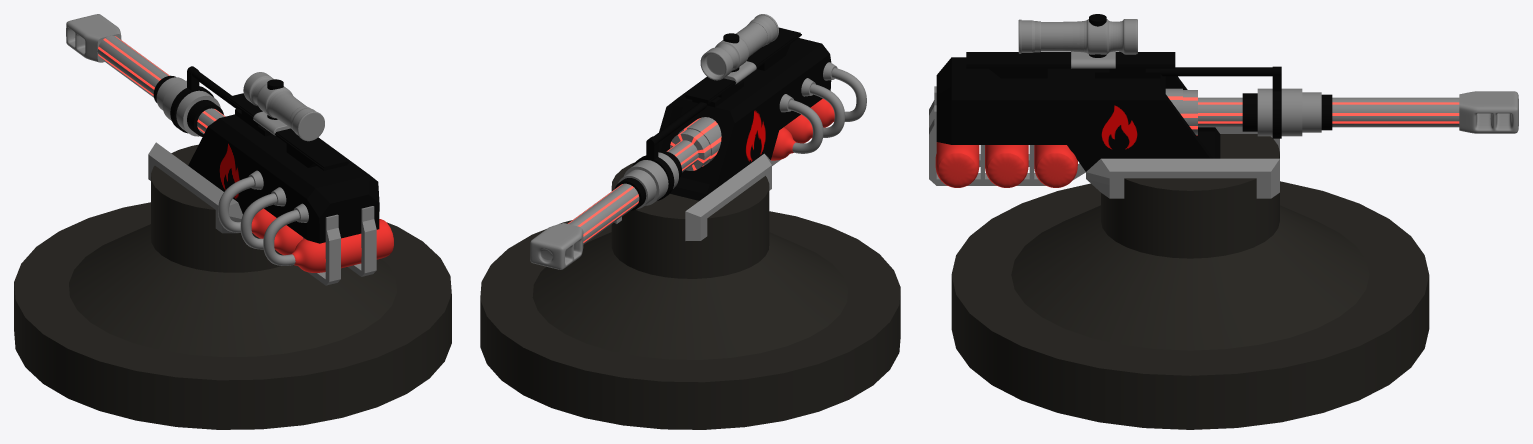
The model's file is sniper_L1.fbx.
3 views of the same model, side by side, from view 1: azimuth 30°, elevation 25°; view 2: azimuth 150°, elevation 25°; view 3: azimuth 270°, elevation 25° (orthographic). The views are drawn at different scales.
Visible parts, largest first — view 1: Circle.001, Cube, Cylinder, Cube.001, Cylinder.003, NurbsPath, Cylinder.002, Cube.003, Circle, Cylinder.001, Cube.002; view 2: Circle.001, Cube, Cylinder, Cube.001, NurbsPath, Cylinder.002, Cube.003, Cylinder.003, Cylinder.001, Circle; view 3: Circle.001, Cube, Cylinder, Cube.001, Cylinder.003, Cylinder.002, Cube.003, Cylinder.001, Cube.002.
Boxes of the visible parts, bbox=[...] form: Circle.001: bbox=[14, 144, 451, 429]; Cube: bbox=[188, 93, 379, 243]; Cylinder: bbox=[97, 35, 225, 136]; Cube.001: bbox=[148, 142, 376, 285]; Cylinder.003: bbox=[251, 208, 393, 272]; NurbsPath: bbox=[218, 176, 299, 265]; Cylinder.002: bbox=[243, 72, 324, 141]; Cube.003: bbox=[66, 14, 121, 62]; Circle: bbox=[248, 170, 308, 222]; Cylinder.001: bbox=[187, 66, 238, 108]; Cube.002: bbox=[253, 111, 290, 135]; Circle.001: bbox=[480, 162, 900, 429]; Cube: bbox=[658, 27, 831, 200]; Cylinder: bbox=[568, 117, 721, 244]; Cube.001: bbox=[614, 153, 780, 240]; NurbsPath: bbox=[788, 68, 866, 153]; Cylinder.002: bbox=[700, 14, 778, 80]; Cube.003: bbox=[530, 223, 583, 269]; Cylinder.003: bbox=[771, 98, 834, 160]; Cylinder.001: bbox=[646, 102, 706, 147]; Circle: bbox=[779, 62, 837, 112]; Circle.001: bbox=[951, 134, 1429, 429]; Cube: bbox=[936, 52, 1220, 171]; Cylinder: bbox=[1165, 75, 1459, 138]; Cube.001: bbox=[929, 86, 1279, 198]; Cylinder.003: bbox=[935, 142, 1077, 187]; Cylinder.002: bbox=[1018, 19, 1137, 54]; Cube.003: bbox=[1459, 91, 1518, 133]; Cylinder.001: bbox=[1160, 66, 1281, 76]; Cube.002: bbox=[1071, 51, 1115, 68].
Bounding box in the file's own units: 160 × 115 × 197.
